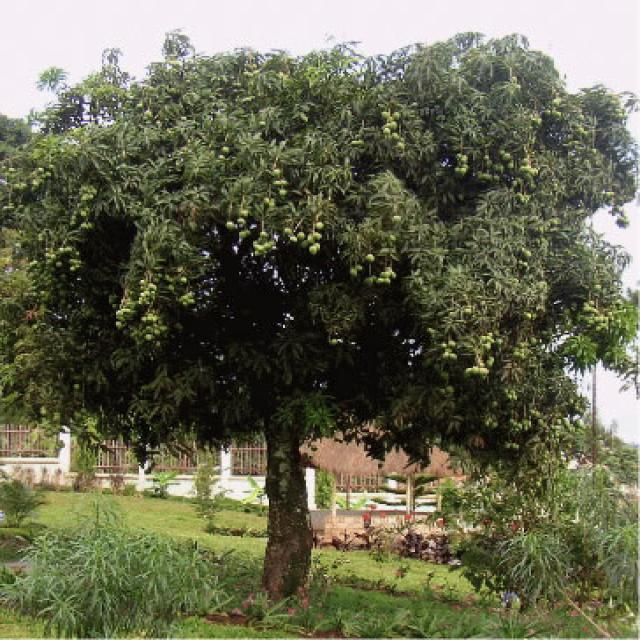Mango-Tree: (0, 24, 638, 564)
